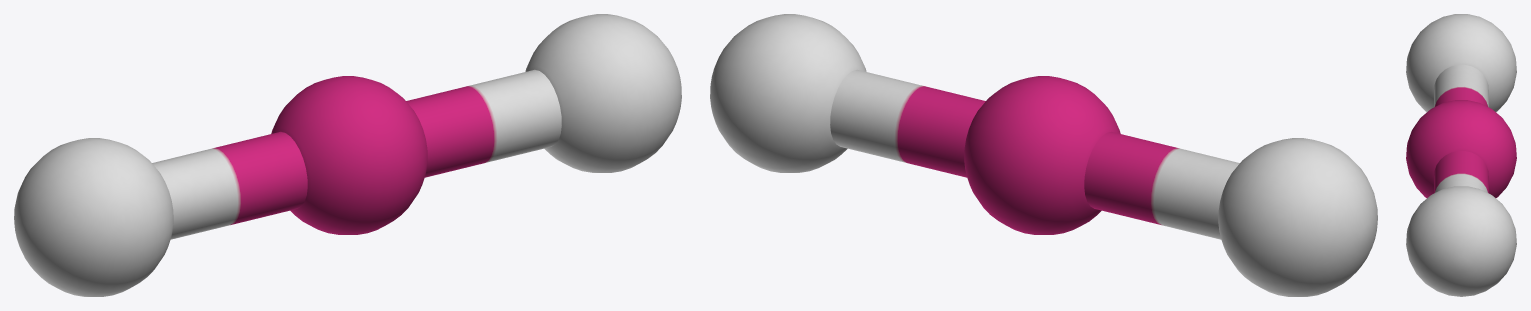
3 views of the same model, side by side, from view 1: azimuth 30°, elevation 25°; view 2: azimuth 150°, elevation 25°; view 3: azimuth 270°, elevation 25° (orthographic). The views are drawn at different scales.
Visible parts, largest first — view 1: LinearBond; view 2: LinearBond; view 3: LinearBond.
Boxes of the visible parts, box(x1,y1,x2,y2) form: LinearBond: box(14, 14, 681, 296); LinearBond: box(710, 14, 1377, 296); LinearBond: box(1406, 14, 1516, 296).
Bounding box in the file's own units: 95.6 × 20.4 × 20.43.
Materials: 1 (1 with a texture image).
